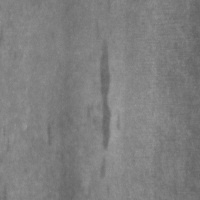inclusion: (88, 36, 119, 181), (43, 113, 60, 149)
